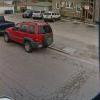Car: (2, 18, 65, 56)
